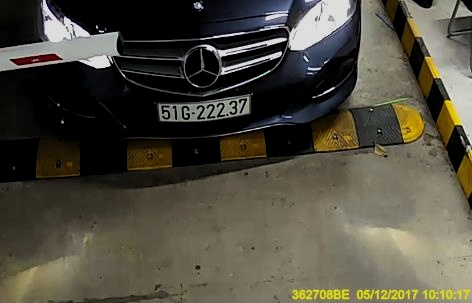plate: (152, 89, 251, 122)
